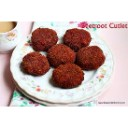cutlet: (54, 62, 84, 86), (63, 25, 92, 49), (78, 45, 107, 67), (30, 28, 61, 47), (48, 45, 75, 66), (24, 52, 49, 72)
